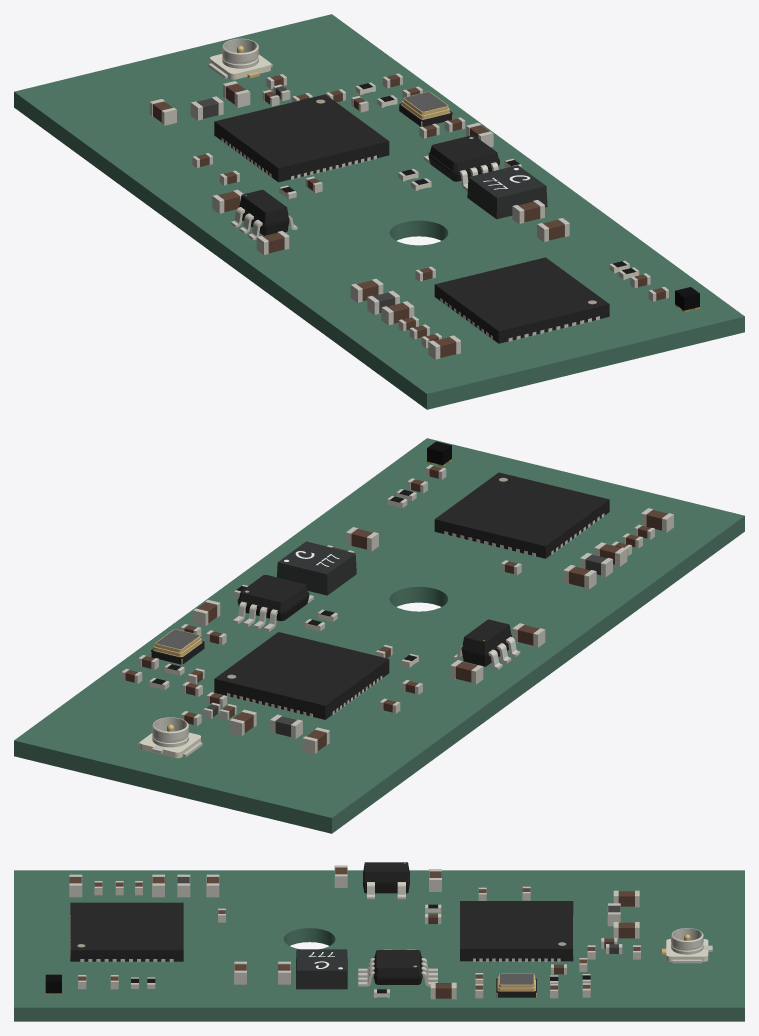
The model's file is module.glb.
3 views of the same model, one above another, from view 1: azimuth 30°, elevation 25°; view 2: azimuth 150°, elevation 25°; view 3: azimuth 270°, elevation 25° (orthographic). The views are drawn at different scales.
Parts seen in each view (by area): view 1: =>[0:1:1:47], U1, U2, L4, U3, U4, J3, Y1; view 2: =>[0:1:1:47], U1, U2, L4, U3, U4, J3, Y1; view 3: =>[0:1:1:47], U1, U2, U3, L4, U4, J3, Y1, C34, C60, C33, D1 (+9 smaller).
Boxes of the visible parts, x1,y1,x2,y2 form: =>[0:1:1:47]: (14,14,744,409); U1: (214,94,389,182); U2: (434,257,609,343); L4: (467,165,547,219); U3: (423,135,499,191); U4: (231,189,297,240); J3: (208,38,272,79); Y1: (398,91,452,126); =>[0:1:1:47]: (14,438,744,833); U1: (214,632,389,719); U2: (434,472,609,558); L4: (277,541,356,595); U3: (233,575,313,631); U4: (453,619,520,669); J3: (138,717,202,758); Y1: (150,629,204,664); =>[0:1:1:47]: (14,870,744,1021); U1: (460,901,573,961); U2: (70,902,183,961); U3: (358,950,437,986); L4: (296,949,347,989); U4: (363,862,409,899); J3: (662,928,712,963); Y1: (496,973,536,997); C34: (613,922,639,938); C60: (430,982,456,999); C33: (613,890,639,907); D1: (45,974,61,994).
Size of the model in its own units: 0.02 by 0.00462 by 0.045.
